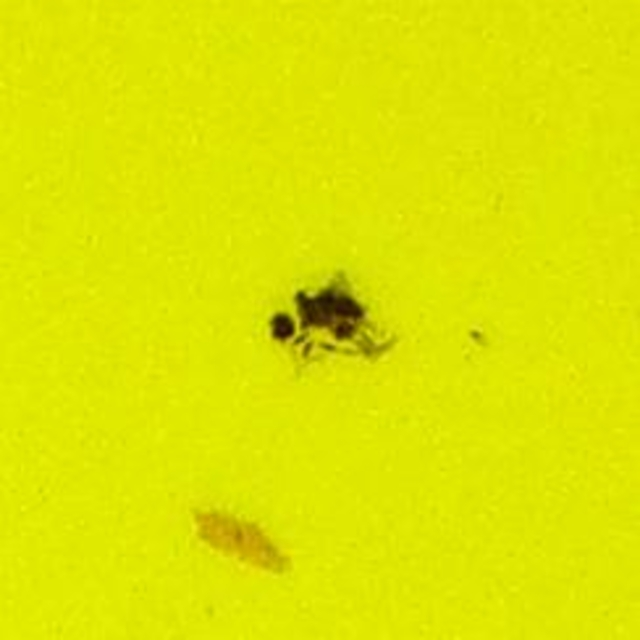Brachycera: (262, 268, 378, 372)
